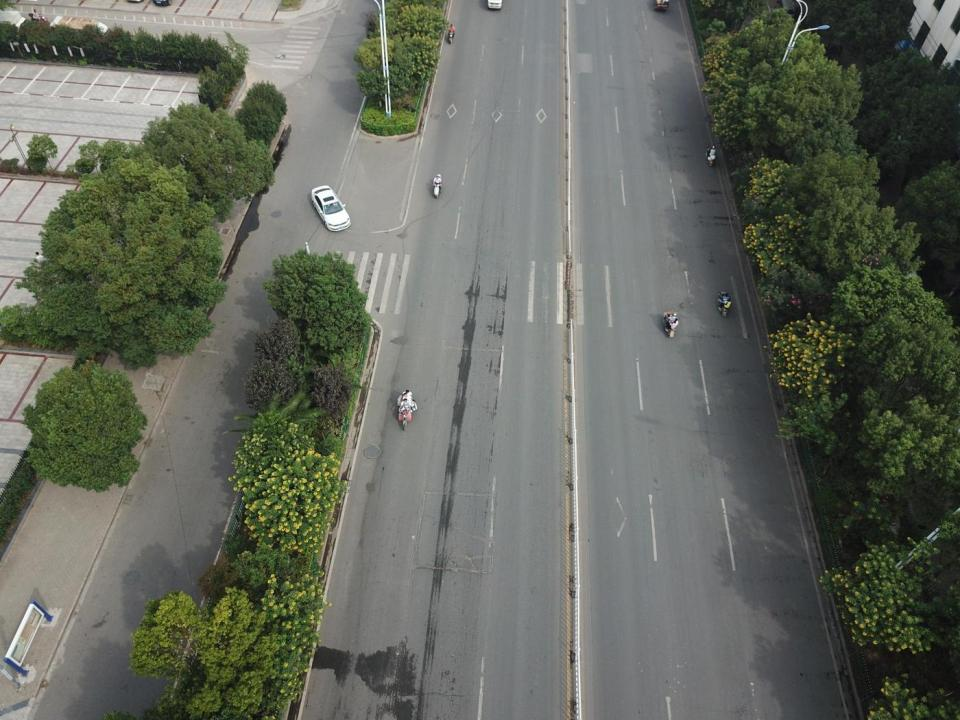car: (308, 185, 350, 233)
truck: (50, 15, 114, 46), (0, 9, 34, 37)
